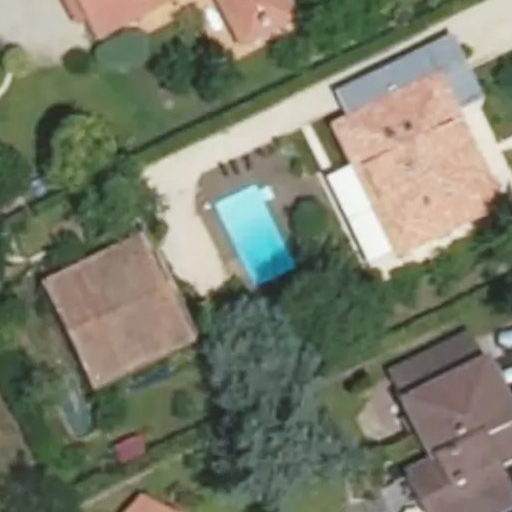pool: (215, 210, 308, 267)
